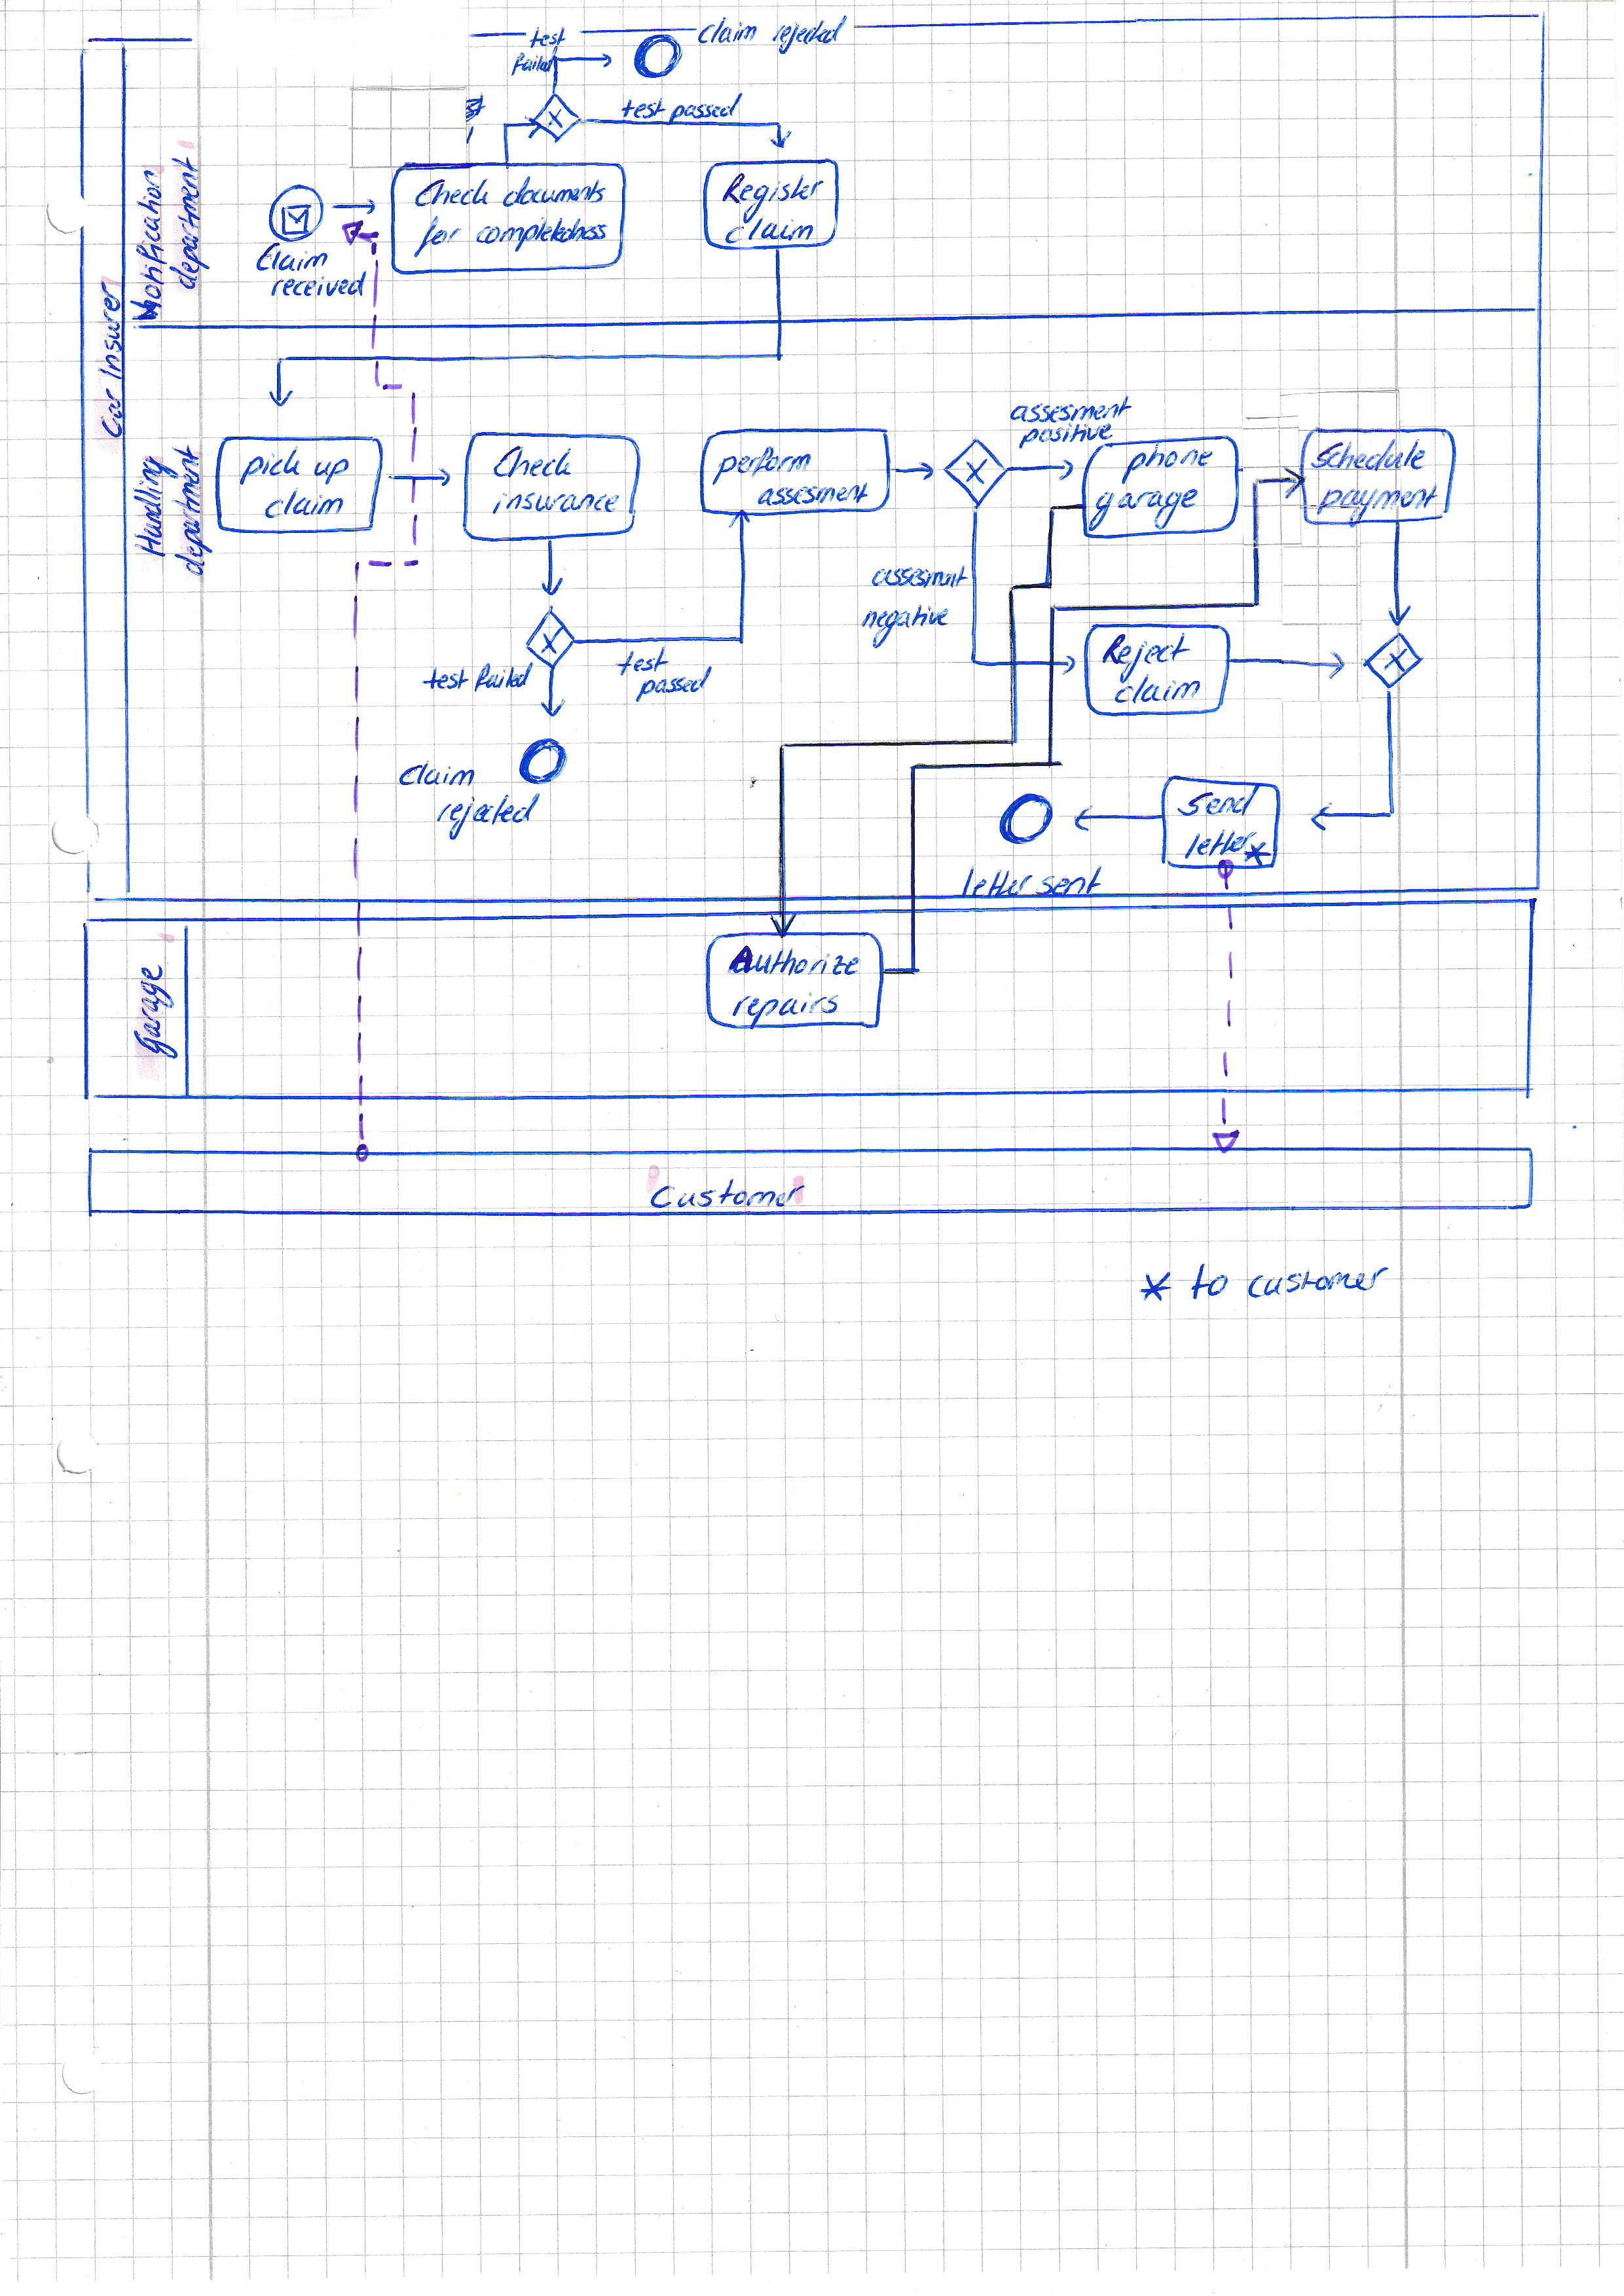*to: (1132, 1258, 1234, 1307)
Authorize: (719, 940, 866, 982)
Car: (95, 383, 128, 444)
Check: (487, 441, 580, 483), (411, 174, 494, 211)
Claim: (251, 239, 337, 276)
Customer: (645, 1173, 812, 1216)
Garage: (128, 959, 183, 1065)
Handling: (128, 450, 185, 562)
Insurer: (93, 274, 128, 386)
Notification: (127, 165, 174, 327)
Register: (715, 169, 830, 228)
Reject: (1097, 627, 1197, 689)
Schedule: (1304, 434, 1431, 476)
assesment: (1005, 390, 1135, 427), (750, 476, 874, 511), (866, 560, 974, 594)
claim: (717, 211, 821, 248), (1107, 669, 1206, 708), (258, 483, 350, 522), (394, 755, 482, 792), (694, 12, 763, 49)
completedness: (468, 211, 613, 256)
customer: (1241, 1263, 1394, 1303)
department: (167, 441, 218, 583), (165, 153, 213, 295)
documents: (496, 170, 612, 213)
failed: (469, 657, 538, 697), (508, 44, 562, 79)
for: (408, 211, 466, 260)
garage: (1084, 483, 1202, 538)
insurance: (485, 485, 624, 520)
letter: (956, 861, 1039, 903)
letter*: (1179, 826, 1276, 871)
negative: (856, 599, 954, 653)
passed: (633, 662, 715, 706), (664, 90, 747, 128)
payment: (1311, 476, 1445, 534)
perform: (707, 441, 817, 492)
phone: (1116, 437, 1218, 490)
pick: (234, 443, 306, 490)
positive: (1012, 418, 1120, 455)
received: (265, 265, 371, 302)
rejected: (429, 789, 547, 847), (768, 11, 851, 58)
repairs: (726, 991, 844, 1035)
send: (1172, 776, 1265, 822)
sent: (1030, 861, 1109, 903)
test: (610, 643, 673, 682), (418, 662, 473, 694), (617, 93, 671, 123), (526, 23, 571, 53)
up: (308, 455, 355, 490)
